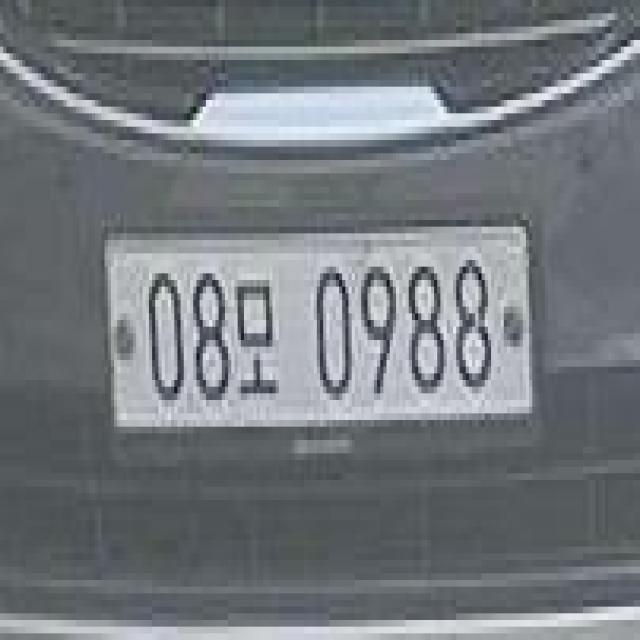illegal_plate: (102, 211, 538, 462)
